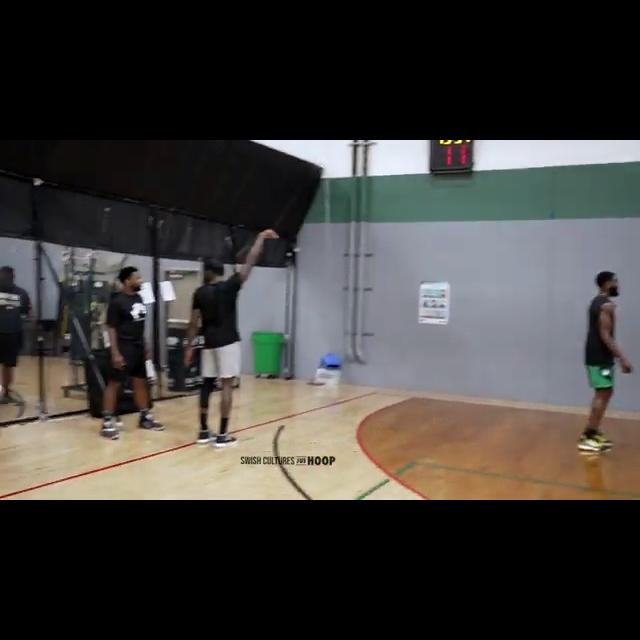person: (189, 251, 249, 452), (99, 267, 166, 438), (575, 272, 635, 459), (0, 266, 33, 415)
